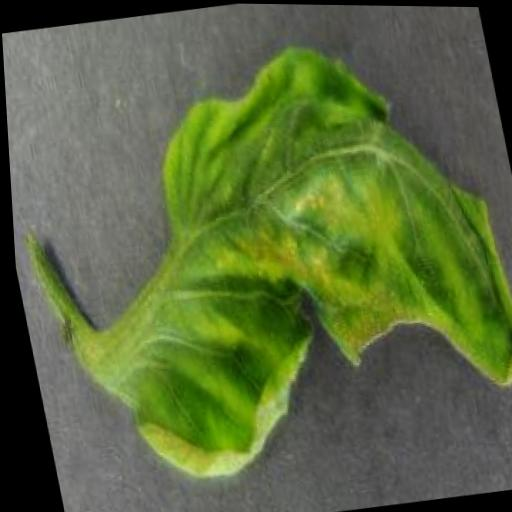Yellow Leaf Curl Virus: (63, 19, 512, 486)
